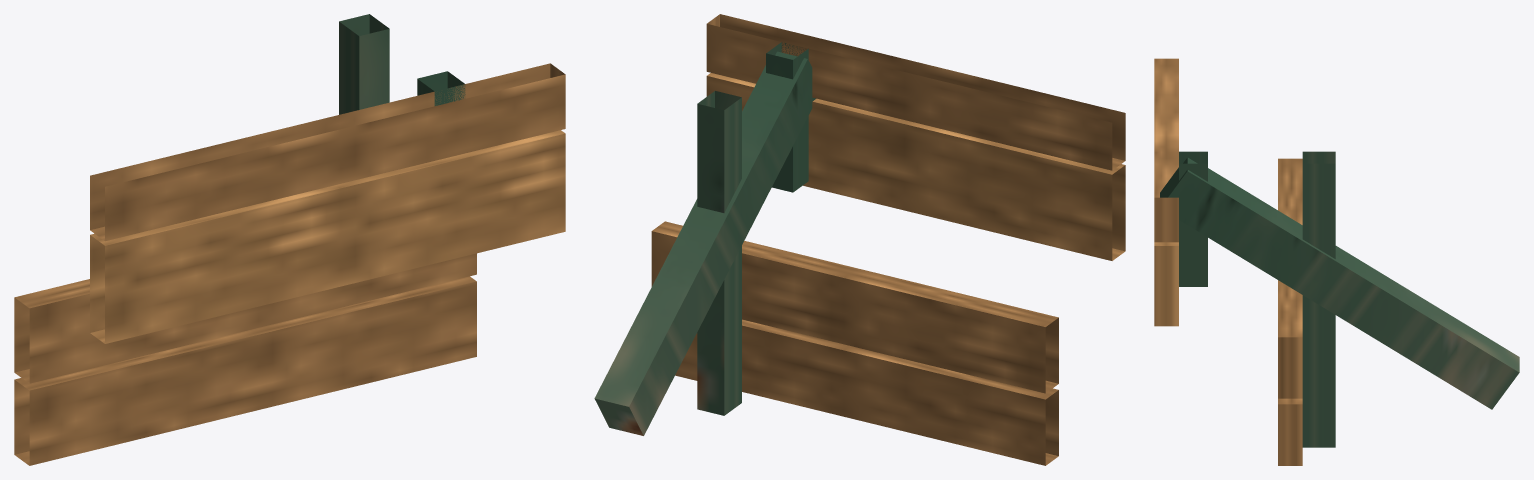
The model's file is section-3.obj.
The picture shows the model from 3 angles, left to right: view 1: azimuth 30°, elevation 25°; view 2: azimuth 150°, elevation 25°; view 3: azimuth 270°, elevation 25°; orthographic projection. The views are drawn at different scales.
Size of the model in its own units: 1.06 by 0.76 by 0.8864.
Materials: 1 (1 with a texture image).
